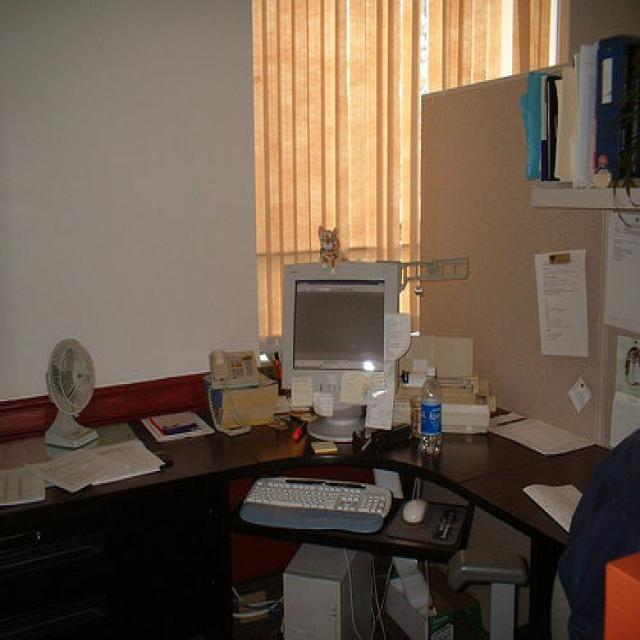bottle: (418, 366, 444, 453)
tvmonitor: (280, 261, 400, 442)
